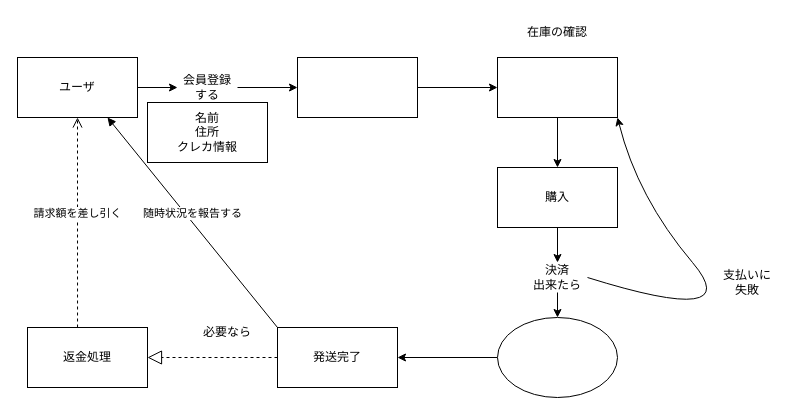
This 795x415 diagram has some shape labels left out. The shapes that lost their labels are listed below. From the top down, each one's centre as x and y in pixels, then its label:
At point 357,87: "システム".
At point 557,87: "商品選択".
At point 557,357: "発送準備".
